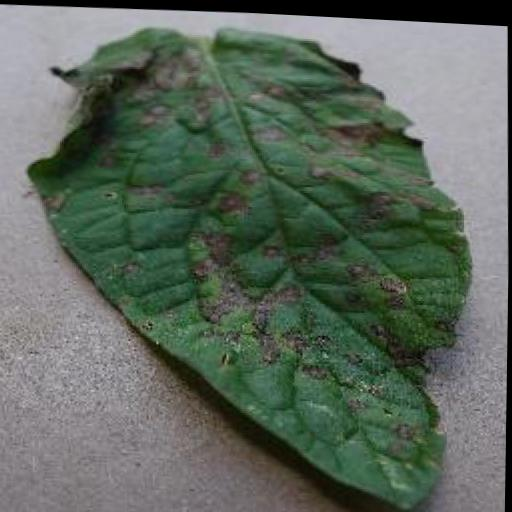Early Blight: (21, 11, 480, 511)
